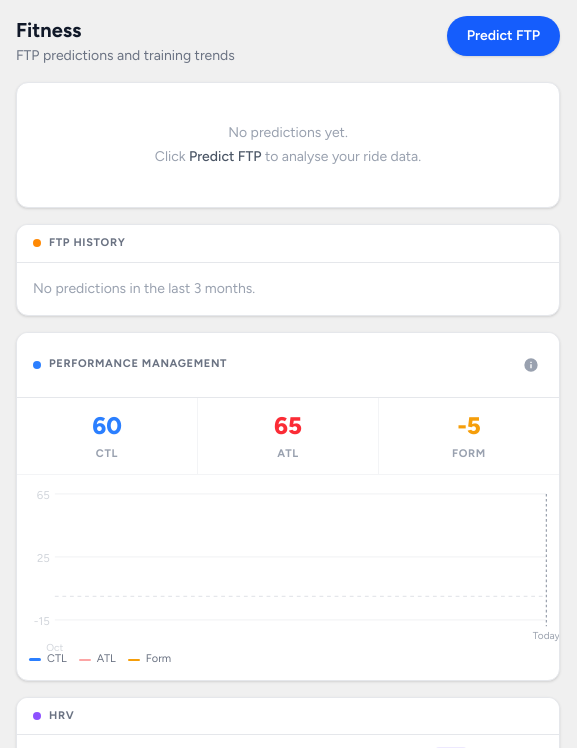
Scenario: FTP prediction confirm-before-save flow › Discard clears the draft without saving it
Click the button "Predict FTP": (503, 36) [447,16,560,56]
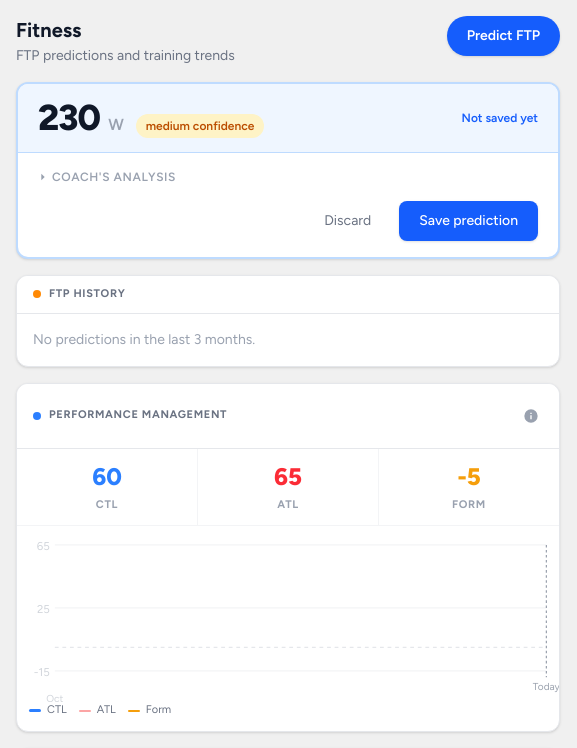
Check: the text "Not saved yet" is shown, box [462,110,538,126]
Click the button "Discard": (348, 221) [308,201,387,241]
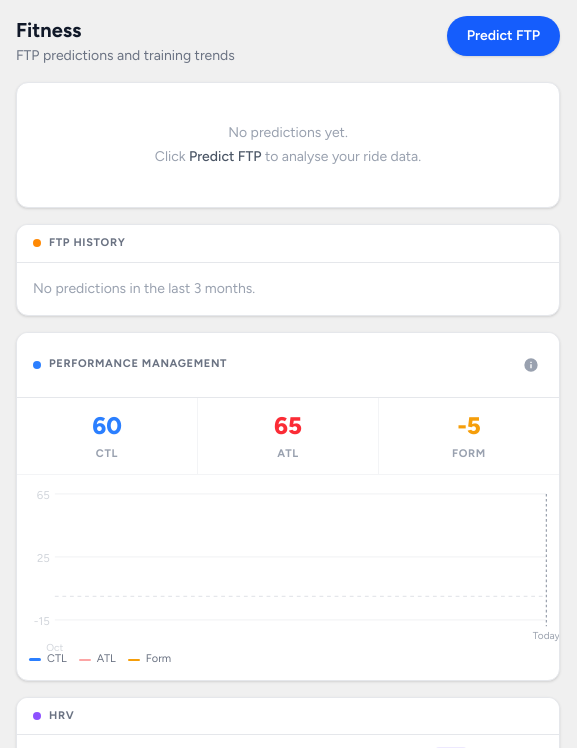
Check: the text "Not saved yet" is gone
